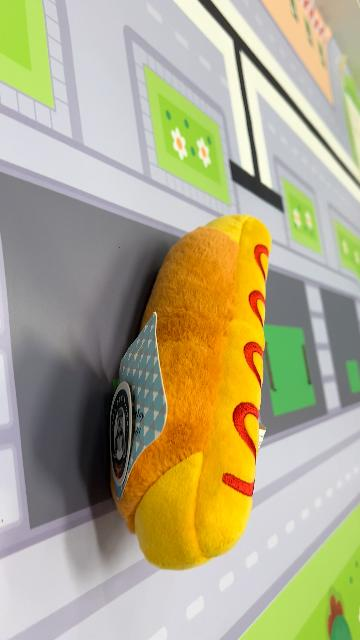hotdog: (107, 213, 273, 572)
